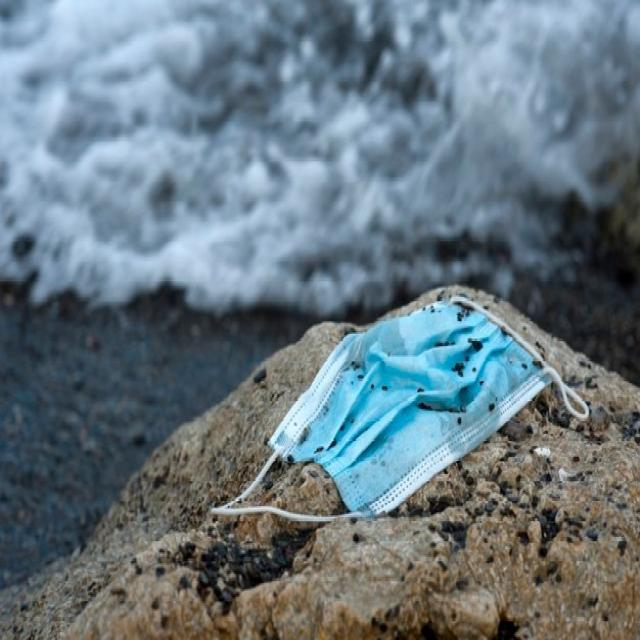face mask: (214, 286, 590, 526)
